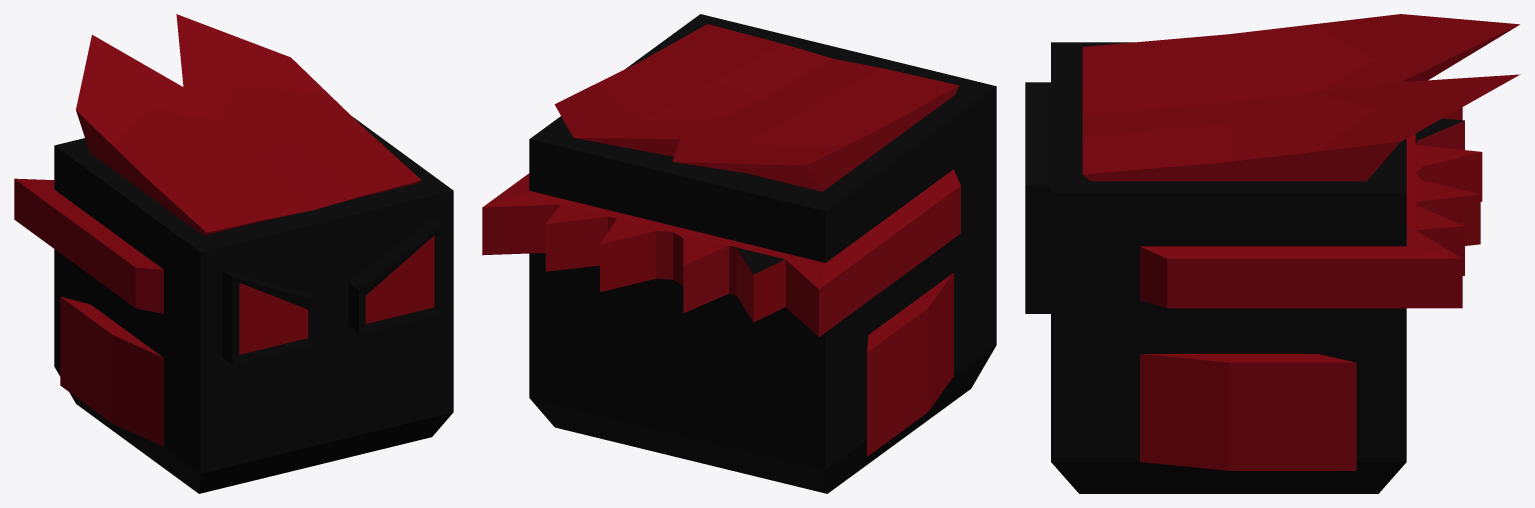
The model's file is darkArty.fbx.
3 renders of one model, left to right at view 1: azimuth 30°, elevation 25°; view 2: azimuth 150°, elevation 25°; view 3: azimuth 270°, elevation 25°, orthographic. The views are drawn at different scales.
Visible parts, largest first — view 1: Cube.002; view 2: Cube.002; view 3: Cube.002.
Boxes of the visible parts, x1=… form: Cube.002: x1=14, y1=14, x2=453, y2=493; Cube.002: x1=482, y1=14, x2=996, y2=493; Cube.002: x1=1025, y1=14, x2=1520, y2=493.
Bounding box in the file's own units: 227 × 233 × 279.
